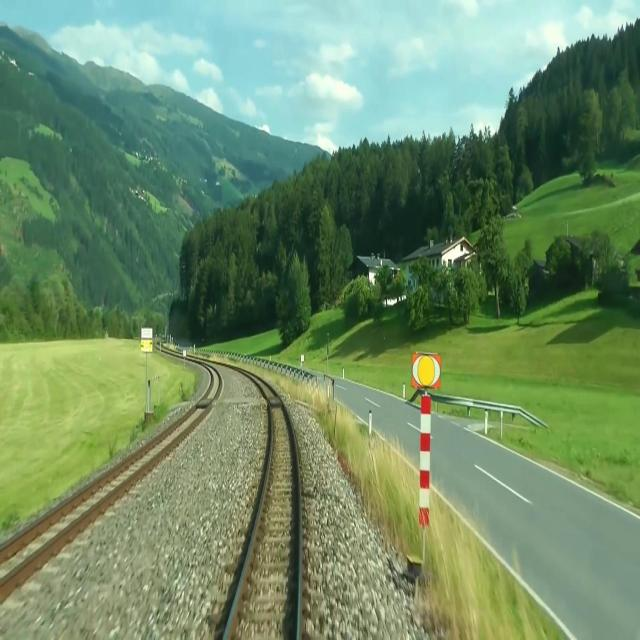rail-track: (0, 371, 219, 577), (227, 386, 297, 639)
